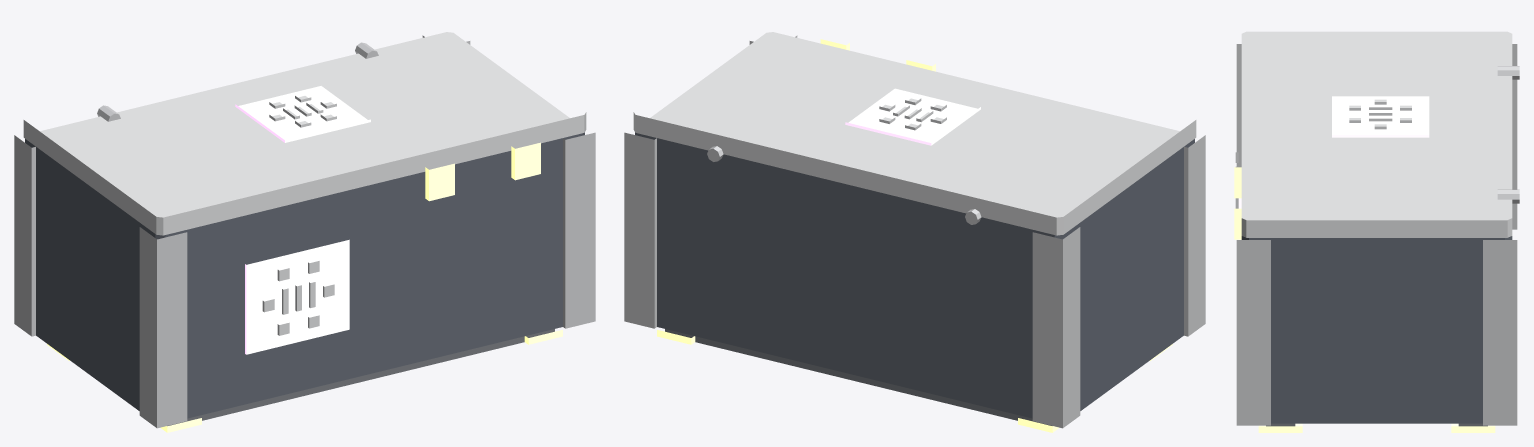
File: iter_02_104.glb
The picture shows the model from 3 angles, left to right: view 1: azimuth 30°, elevation 25°; view 2: azimuth 150°, elevation 25°; view 3: azimuth 270°, elevation 25°; orthographic projection.
Visible parts, largest first — view 1: Body_104, Lid_104, Corner_Guards_104, Glyph_Plate_104, Lid_Glyph_104, Skids_104, Latches_104, Glyph_Marks_104, Lid_Glyph_Marks_104, Floor_Clamps_104; view 2: Body_104, Lid_104, Corner_Guards_104, Lid_Glyph_104, Skids_104, Lid_Glyph_Marks_104, Floor_Clamps_104; view 3: Lid_104, Body_104, Corner_Guards_104, Lid_Glyph_104, Floor_Clamps_104, Lid_Glyph_Marks_104, Hinges_104, Latches_104.
Part boxes in pixels (left/top/right/bottom): Body_104: left=25, top=132, right=584, bottom=418; Lid_104: left=23, top=32, right=586, bottom=235; Corner_Guards_104: left=14, top=35, right=595, bottom=428; Glyph_Plate_104: left=245, top=239, right=349, bottom=354; Lid_Glyph_104: left=235, top=86, right=370, bottom=142; Skids_104: left=168, top=329, right=554, bottom=425; Latches_104: left=425, top=142, right=540, bottom=201; Glyph_Marks_104: left=262, top=261, right=334, bottom=335; Lid_Glyph_Marks_104: left=269, top=96, right=336, bottom=127; Floor_Clamps_104: left=47, top=330, right=562, bottom=432; Body_104: left=635, top=132, right=1194, bottom=418; Lid_104: left=633, top=32, right=1196, bottom=235; Corner_Guards_104: left=624, top=35, right=1205, bottom=428; Lid_Glyph_104: left=845, top=88, right=980, bottom=145; Skids_104: left=665, top=329, right=1051, bottom=425; Lid_Glyph_Marks_104: left=879, top=98, right=946, bottom=130; Floor_Clamps_104: left=657, top=330, right=1172, bottom=432; Lid_104: left=1241, top=31, right=1512, bottom=237; Body_104: left=1241, top=236, right=1512, bottom=423; Corner_Guards_104: left=1236, top=44, right=1517, bottom=425; Lid_Glyph_104: left=1332, top=96, right=1429, bottom=137; Floor_Clamps_104: left=1258, top=423, right=1495, bottom=432; Lid_Glyph_Marks_104: left=1349, top=99, right=1411, bottom=129; Hinges_104: left=1497, top=66, right=1519, bottom=203; Latches_104: left=1234, top=167, right=1241, bottom=239.
Size of the model in its own units: 1.02 by 0.512 by 0.585.
